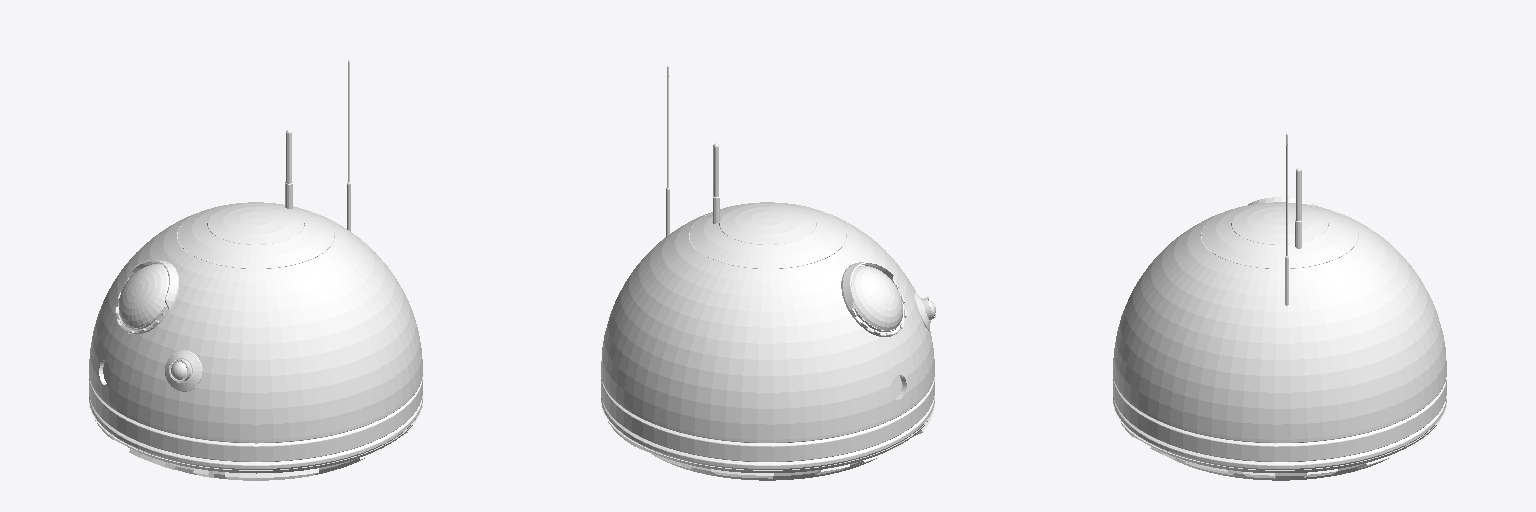
Rendered from bb8_head.obj.
The picture shows the model from 3 angles: view 1: azimuth 30°, elevation 25°; view 2: azimuth 150°, elevation 25°; view 3: azimuth 270°, elevation 25°; orthographic projection.
Visible parts, largest first — view 1: Object004; view 2: Object004; view 3: Object004.
Part boxes in pixels (bbox=[...]): Object004: bbox=[89, 60, 422, 480]; Object004: bbox=[601, 66, 935, 480]; Object004: bbox=[1113, 134, 1446, 480].
Size of the model in its own units: 54.56 by 60.87 by 54.56.